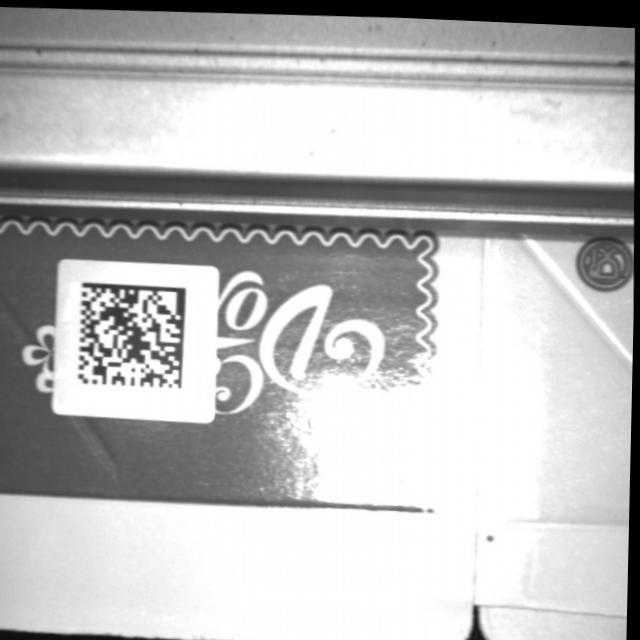datamatrix: (76, 278, 190, 388)
